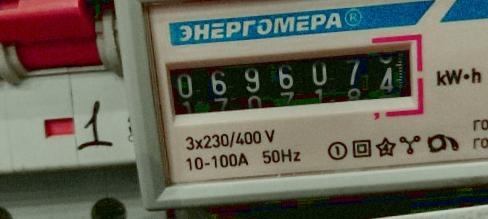0: (172, 70, 196, 100), (309, 57, 329, 87), (208, 68, 227, 95)
4: (376, 65, 395, 94)
6: (274, 59, 294, 91)
7: (342, 55, 362, 86)
9: (241, 64, 261, 93)
screen: (150, 29, 429, 134)
